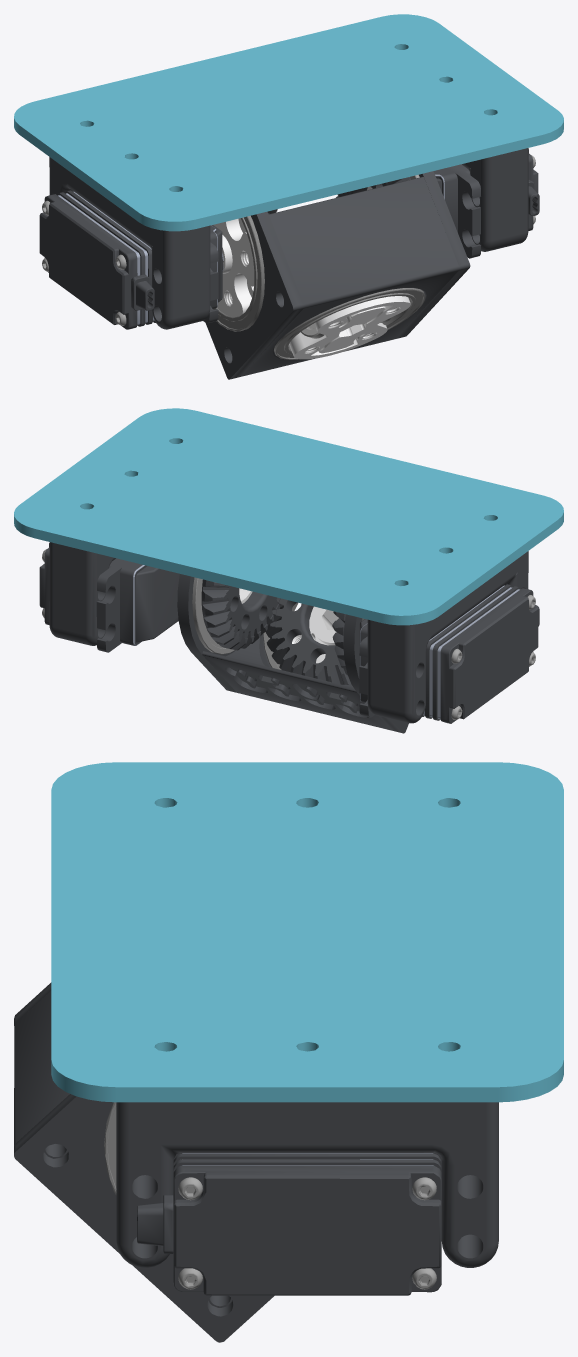
Rendered from gearbox.glb.
3 views of the same model, one above another, from view 1: azimuth 30°, elevation 25°; view 2: azimuth 150°, elevation 25°; view 3: azimuth 270°, elevation 25° (orthographic). The views are drawn at different scales.
Parts seen in each view (by area): view 1: Component41:1, Left Bevel (1) (1):1, Right Servo Head (1) (1):1, 32ID Bearing (2) (1):2, DDJ-STDLOW-LUOSI (1) (1) (1):1; view 2: Component41:1, Left Bevel (1) (1):1, DDJ-STDLOW-LUOSI (1) (1) (1):1, Right Servo Head (1) (1):1, 32ID Bearing (1) (1) (1):1; view 3: Component41:1, Left Bevel (1) (1):1, DDJ-STDLOW-LUOSI (1) (1) (1):1, 32ID Bearing (1) (1) (1):1.
Part boxes in pixels (x1,y1,x2,y2): Component41:1: [14, 14, 563, 231]; Left Bevel (1) (1):1: [39, 148, 539, 379]; Right Servo Head (1) (1):1: [213, 186, 410, 359]; 32ID Bearing (2) (1):2: [213, 215, 425, 359]; DDJ-STDLOW-LUOSI (1) (1) (1):1: [42, 155, 535, 325]; Component41:1: [14, 408, 563, 625]; Left Bevel (1) (1):1: [39, 542, 539, 733]; DDJ-STDLOW-LUOSI (1) (1) (1):1: [42, 549, 535, 719]; Right Servo Head (1) (1):1: [239, 588, 338, 663]; 32ID Bearing (1) (1) (1):1: [192, 577, 310, 654]; Component41:1: [51, 762, 563, 1102]; Left Bevel (1) (1):1: [14, 982, 498, 1342]; DDJ-STDLOW-LUOSI (1) (1) (1):1: [178, 1153, 436, 1289]; 32ID Bearing (1) (1) (1):1: [104, 1102, 116, 1194].
Bounding box in the file's own units: 0.117 × 0.0586 × 0.0837.
